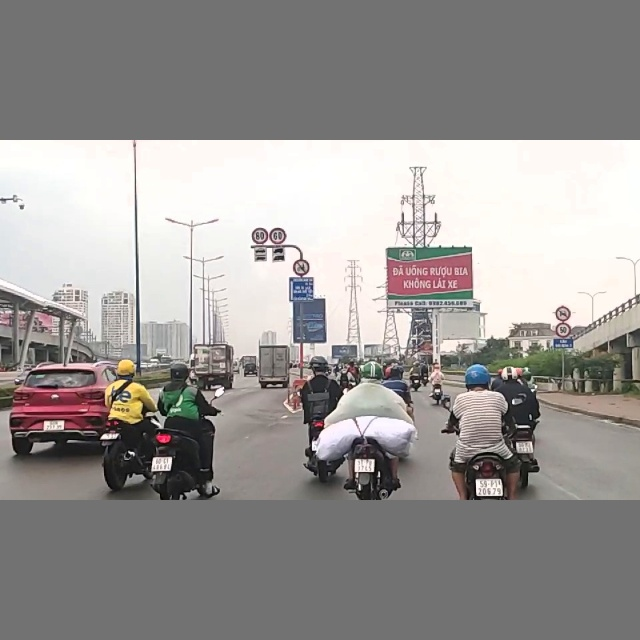P.103a: (555, 305, 570, 321)
P.104: (293, 259, 311, 276)
P.127*50: (557, 323, 571, 338)
P.127*60: (271, 229, 286, 243)
P.127*80: (253, 227, 269, 243)
